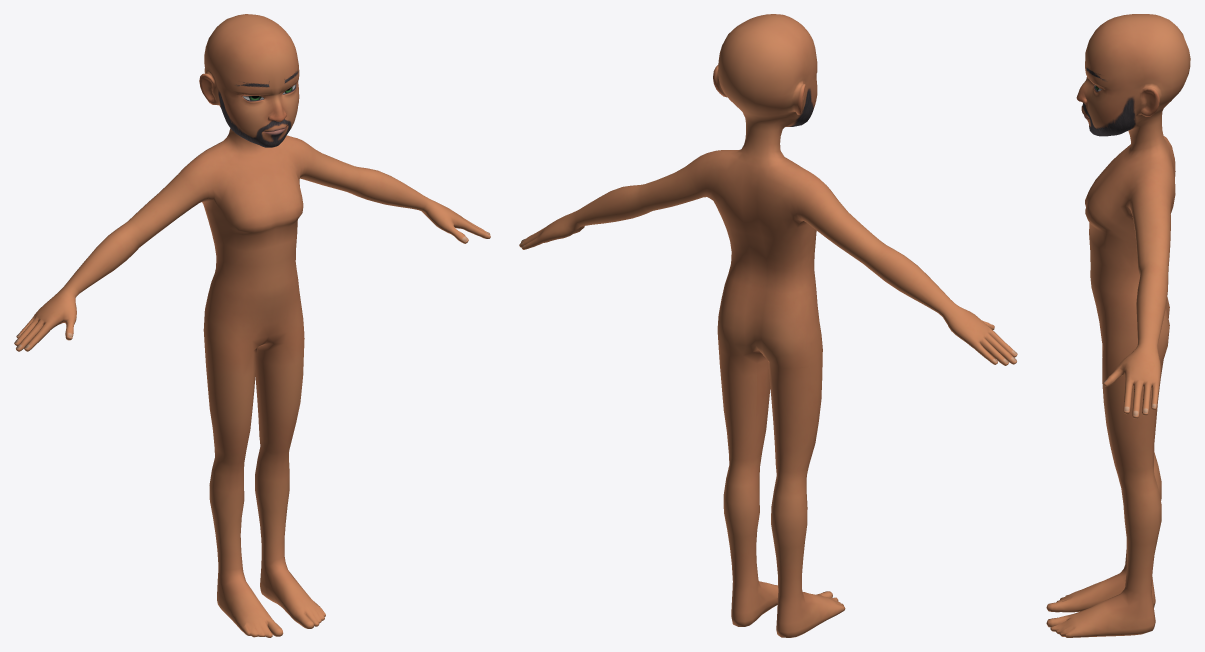
Rendered from frame_0025.glb.
The picture shows the model from 3 angles, left to right: view 1: azimuth 30°, elevation 25°; view 2: azimuth 150°, elevation 25°; view 3: azimuth 270°, elevation 25°; orthographic projection. The views are drawn at different scales.
Parts seen in each view (by area): view 1: frame_0025_head_geo; view 2: frame_0025_head_geo; view 3: frame_0025_head_geo.
Part boxes in pixels (x1=…): frame_0025_head_geo: x1=14, y1=14, x2=490, y2=637; frame_0025_head_geo: x1=519, y1=14, x2=1017, y2=637; frame_0025_head_geo: x1=1046, y1=14, x2=1190, y2=637.
Size of the model in its own units: 1.28 by 1.5 by 0.3253.
Materials: 3 (3 with a texture image).
